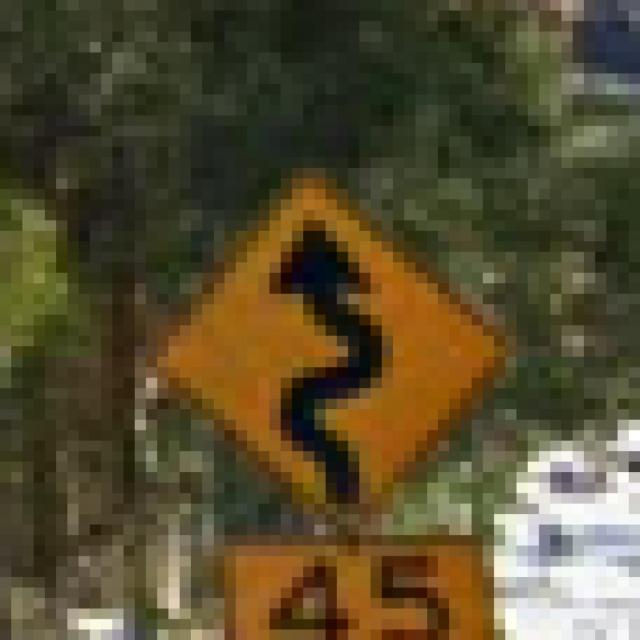Banyak Tikungan Pertama Kiri: (90, 137, 539, 546)
